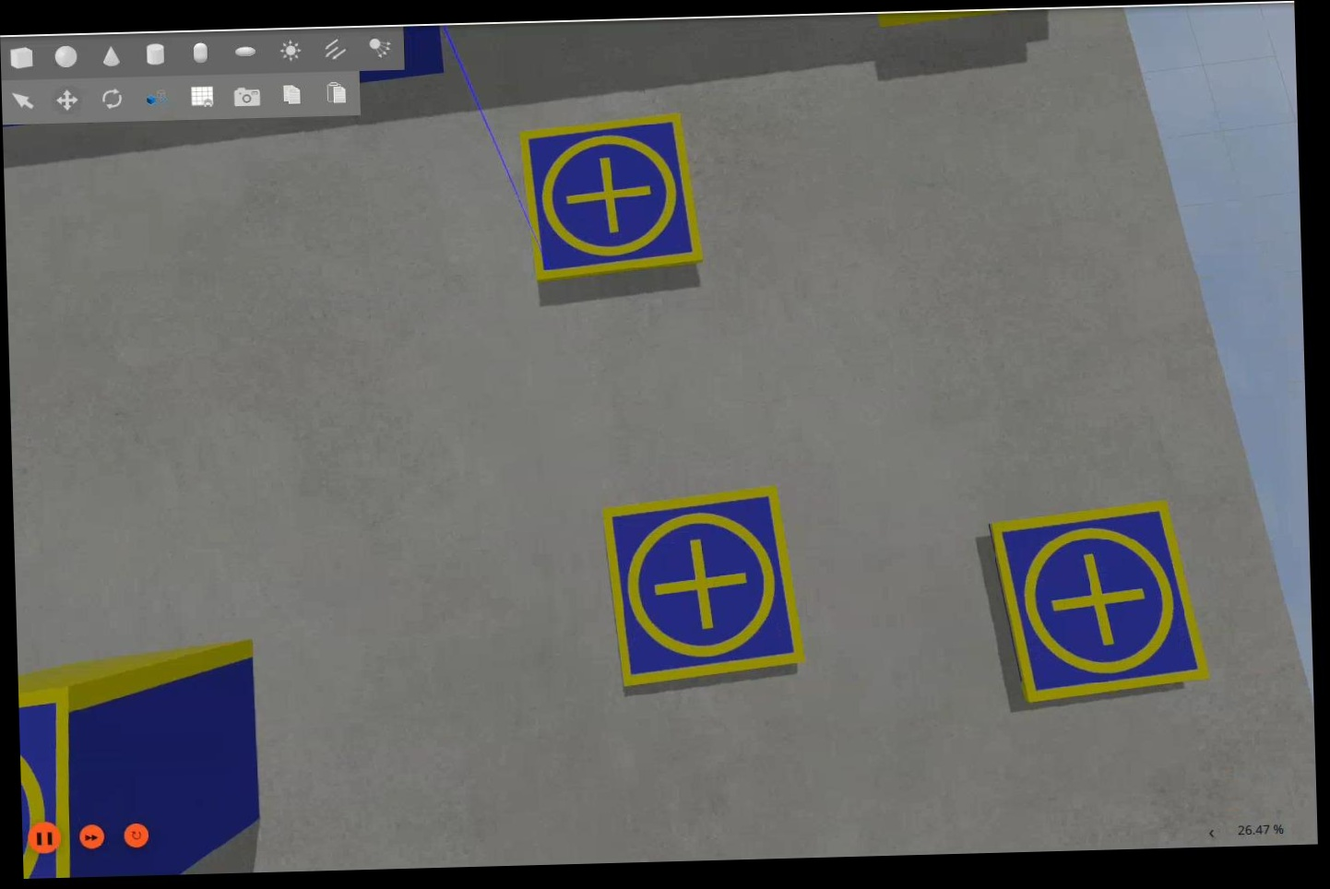small_base: (987, 499, 1215, 711), (599, 484, 805, 696), (517, 113, 706, 286), (18, 679, 88, 889)
